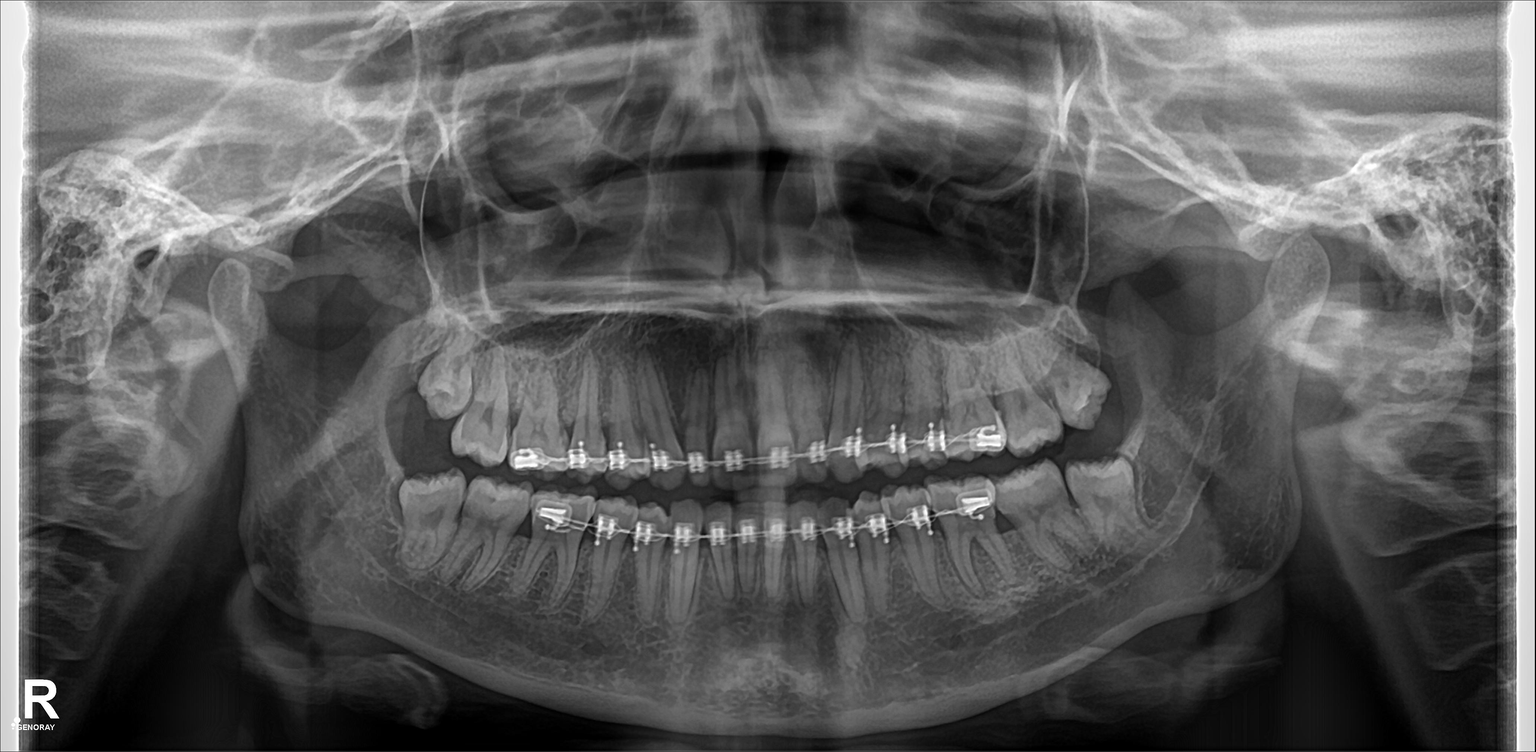Impacted Third Molar: (415, 339, 477, 417)
